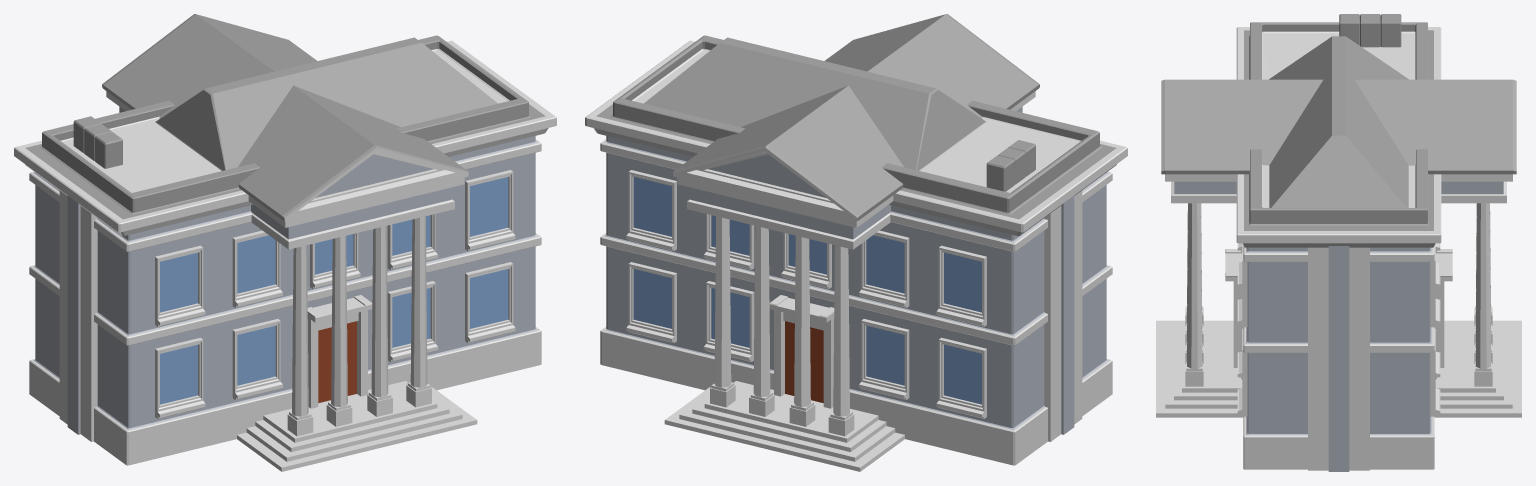
The model's file is CourtHouse.fbx.
The picture shows the model from 3 angles, left to right: view 1: azimuth 30°, elevation 25°; view 2: azimuth 150°, elevation 25°; view 3: azimuth 270°, elevation 25°; orthographic projection. The views are drawn at different scales.
Parts seen in each view (by area): view 1: building, roof, Window, pillars, stairs, Cube, overhang, Cube.001, pillar clamp, chimney; view 2: building, roof, Window, pillars, stairs, Cube, overhang, Cube.001, pillar clamp, chimney; view 3: building, roof, Cube, stairs, pillars, overhang, Window, Cube.001, chimney, pillar clamp.
Part boxes in pixels (box(x1,y1,x2,y2)): building: box(14, 35, 556, 465); roof: box(102, 14, 468, 221); Window: box(155, 170, 515, 418); pillars: box(292, 216, 427, 416); stairs: box(237, 381, 477, 471); Cube: box(59, 190, 97, 441); overhang: box(106, 91, 464, 249); Cube.001: box(307, 295, 372, 408); pillar clamp: box(287, 382, 431, 436); chimney: box(73, 116, 122, 168); building: box(585, 35, 1127, 465); roof: box(673, 14, 1039, 221); Window: box(626, 170, 986, 418); pillars: box(714, 216, 849, 416); stairs: box(664, 381, 904, 471); Cube: box(1044, 190, 1082, 441); overhang: box(677, 91, 1035, 249); Cube.001: box(769, 295, 834, 408); pillar clamp: box(710, 382, 854, 436); chimney: box(986, 140, 1035, 191); building: box(1236, 22, 1441, 469); roof: box(1161, 79, 1516, 174); Cube: box(1308, 246, 1369, 471); stairs: box(1156, 320, 1521, 417); pillars: box(1187, 203, 1490, 368); overhang: box(1165, 174, 1512, 203); Window: box(1237, 243, 1440, 416); Cube.001: box(1225, 249, 1452, 367); chimney: box(1339, 14, 1401, 47); pillar clamp: box(1185, 305, 1492, 386).
Bounding box in the file's own units: 538 × 360 × 400.
